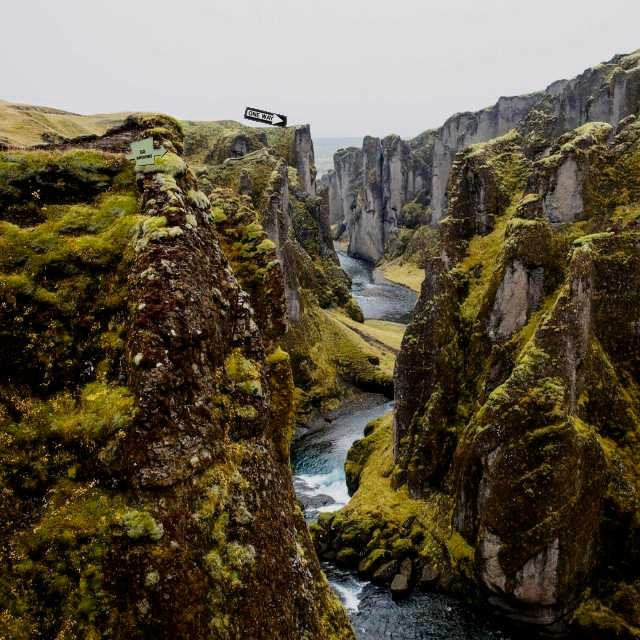GO_AROUND: (124, 136, 168, 166)
ONE_WAY_ right: (243, 106, 287, 128)
